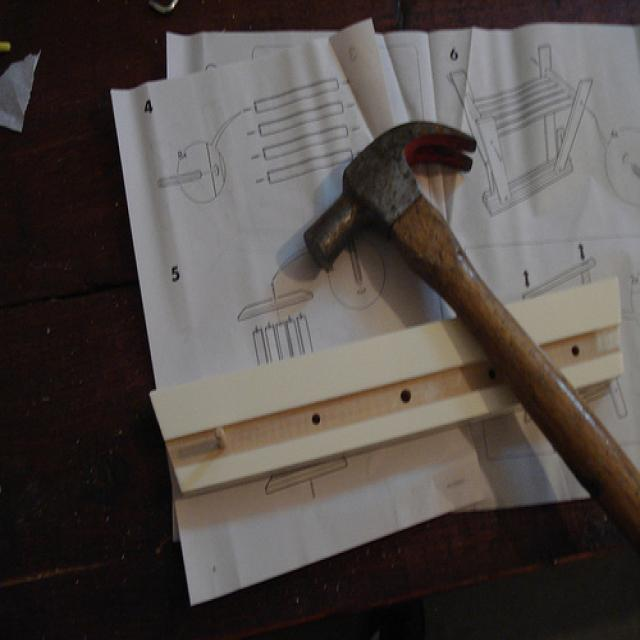hammer: (281, 84, 639, 505)
